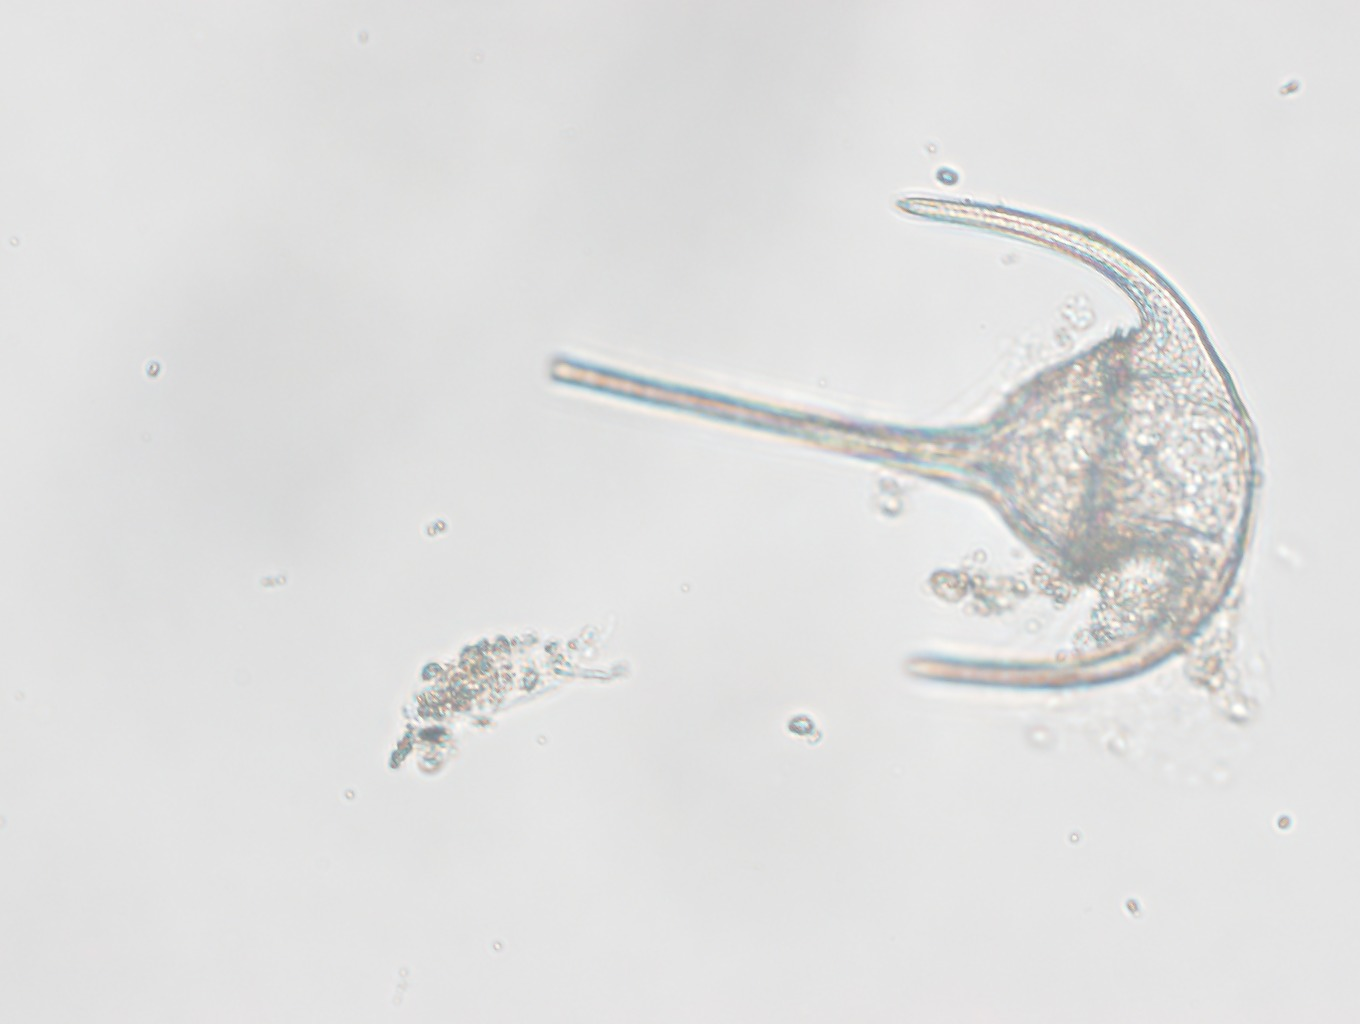ceratium tripos: (536, 188, 1262, 699)
